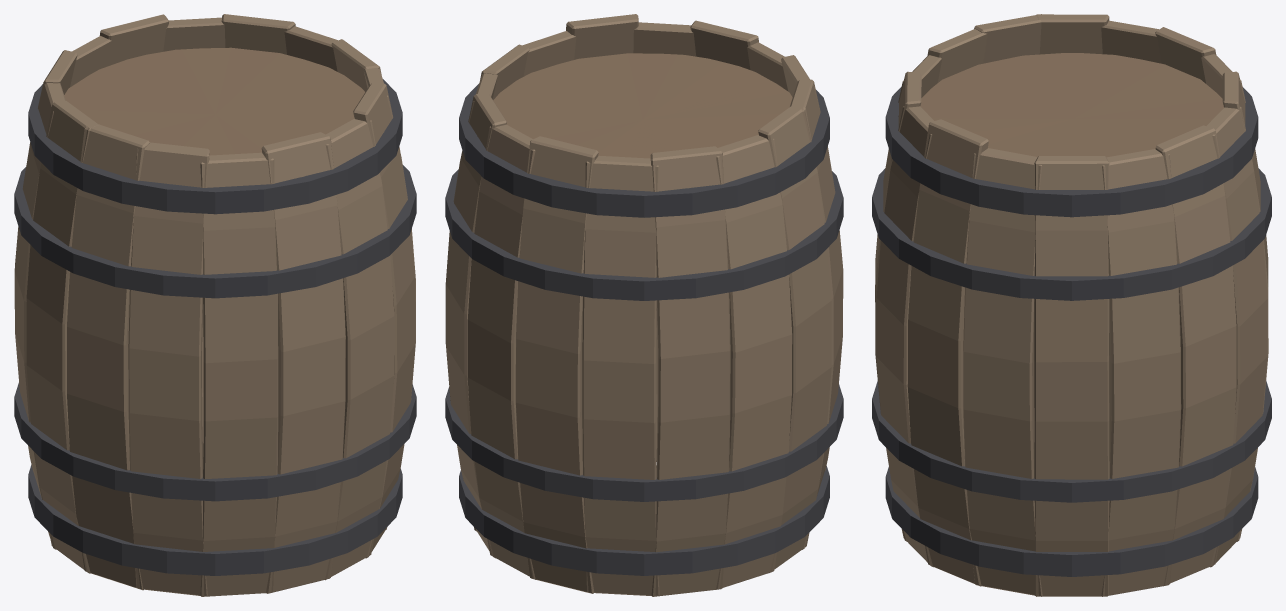
The model's file is barrel.glb.
3 views of the same model, side by side, from view 1: azimuth 30°, elevation 25°; view 2: azimuth 150°, elevation 25°; view 3: azimuth 270°, elevation 25° (orthographic).
Visible parts, largest first — view 1: barrel; view 2: barrel; view 3: barrel.
Part boxes in pixels (x1,y1,x2,y2): barrel: [14, 14, 416, 596]; barrel: [445, 14, 843, 596]; barrel: [872, 14, 1271, 596].
Size of the model in its own units: 0.8257 by 1.01 by 0.8257.
